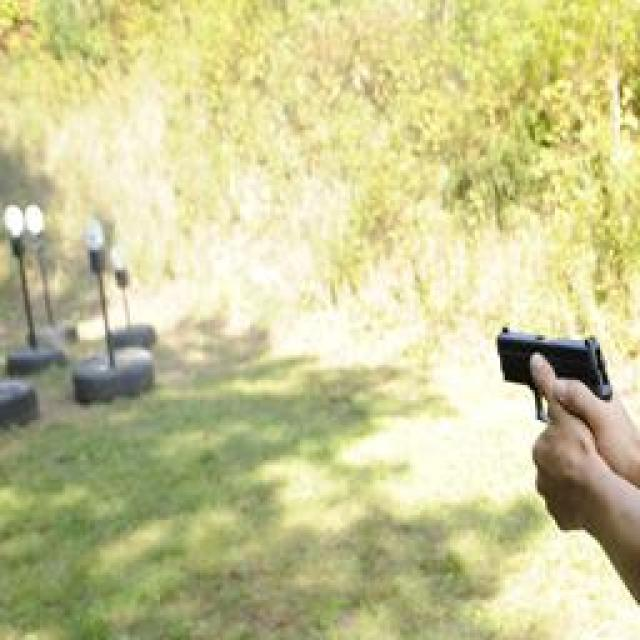Guns: (475, 295, 622, 434)
